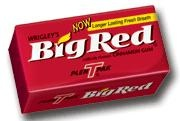grozi_7: (7, 5, 167, 111)
